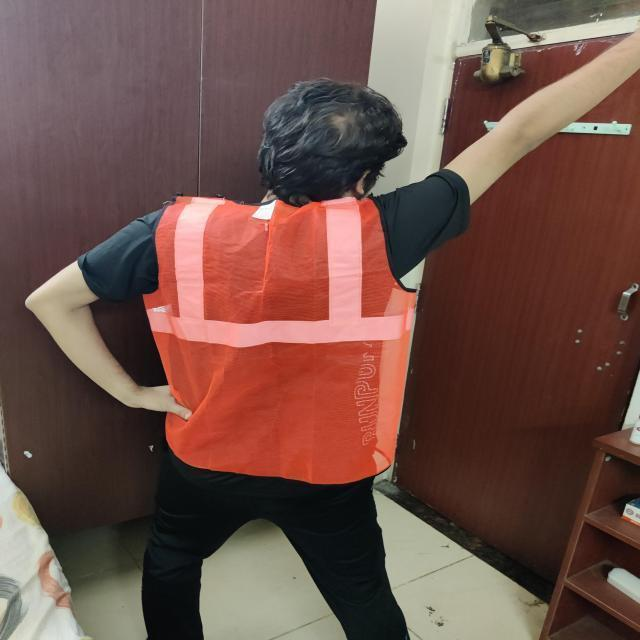no-helmet: (262, 74, 413, 200)
vest: (150, 190, 422, 484)
